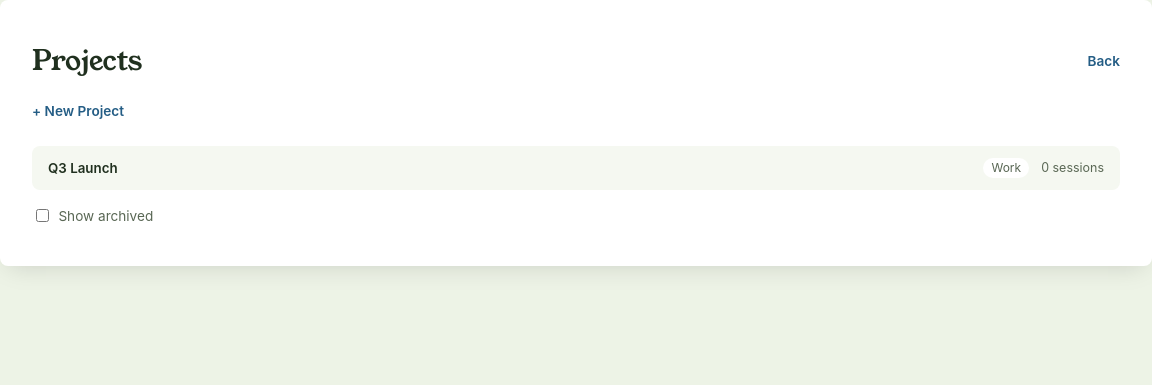
it: Projects detail Board/Sessions tabs › defaults to the Board tab when a project is opened
Click the text "Q3 Launch".
click(83, 168)  # box [48,160,118,176]
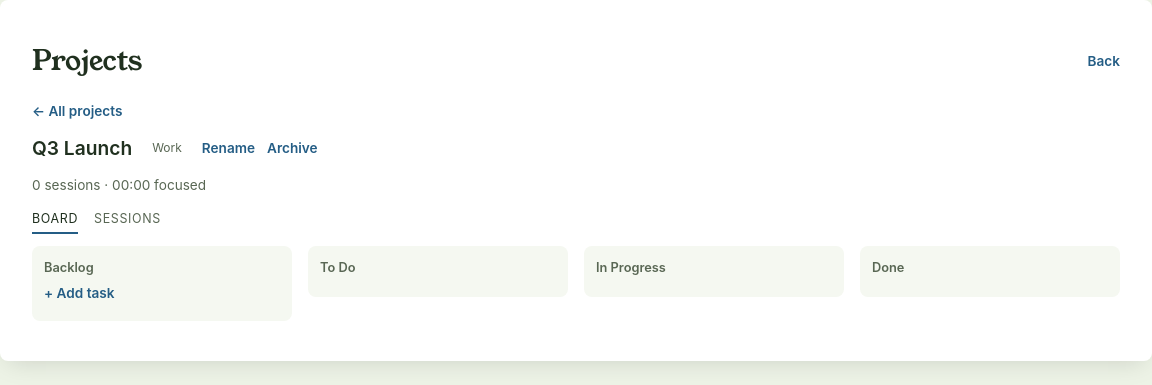
expect the heading "Backlog" is shown: met, box [44,260,94,275]
